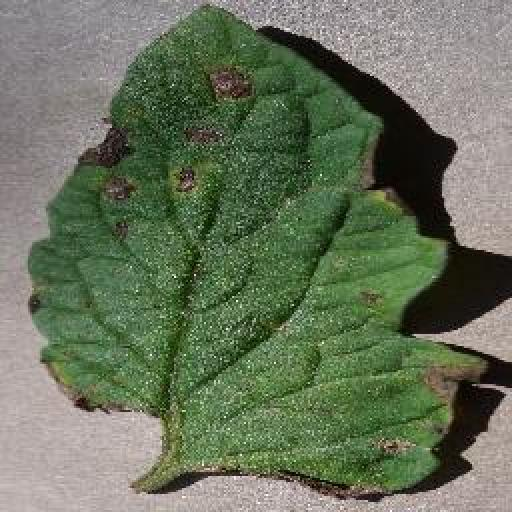Early Blight: (31, 4, 488, 499)
